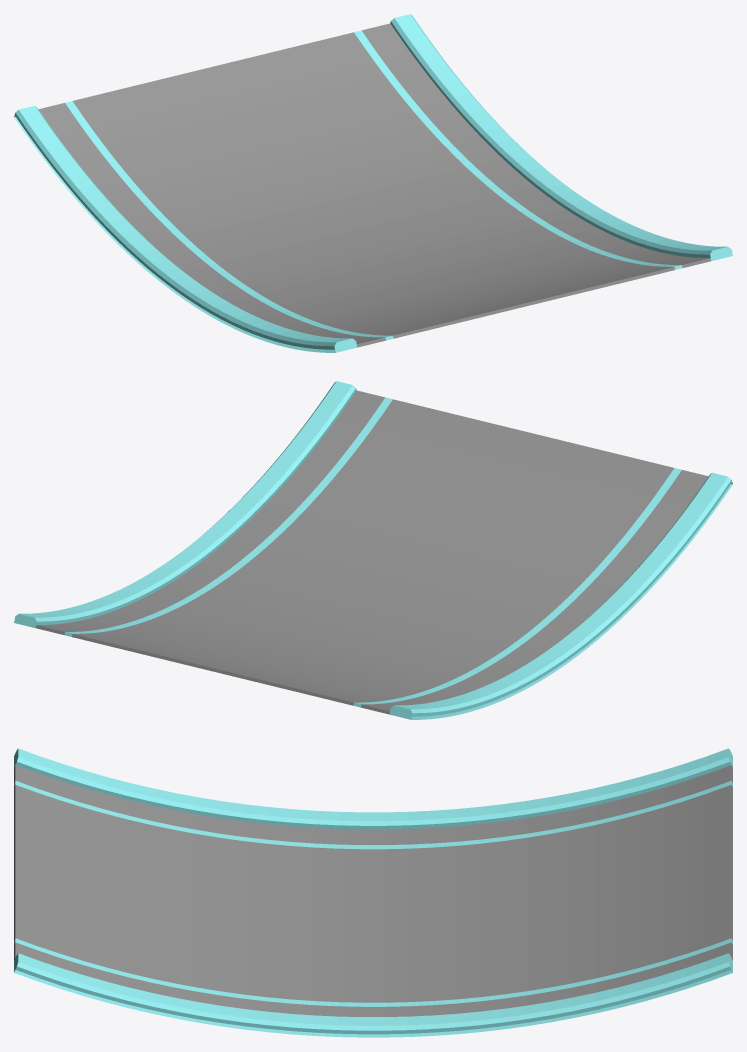
Rendered from NEW RAMP 45@.FBX.
The picture shows the model from 3 angles, top to bottom: view 1: azimuth 30°, elevation 25°; view 2: azimuth 150°, elevation 25°; view 3: azimuth 270°, elevation 25°; orthographic projection. The views are drawn at different scales.
Parts seen in each view (by area): view 1: Plane002; view 2: Plane002; view 3: Plane002.
Boxes of the visible parts, x1,y1,x2,y2 form: Plane002: (14, 14, 732, 352); Plane002: (14, 381, 732, 719); Plane002: (14, 748, 732, 1037).
Bounding box in the file's own units: 0.0075 × 0.0012 × 0.0105.
